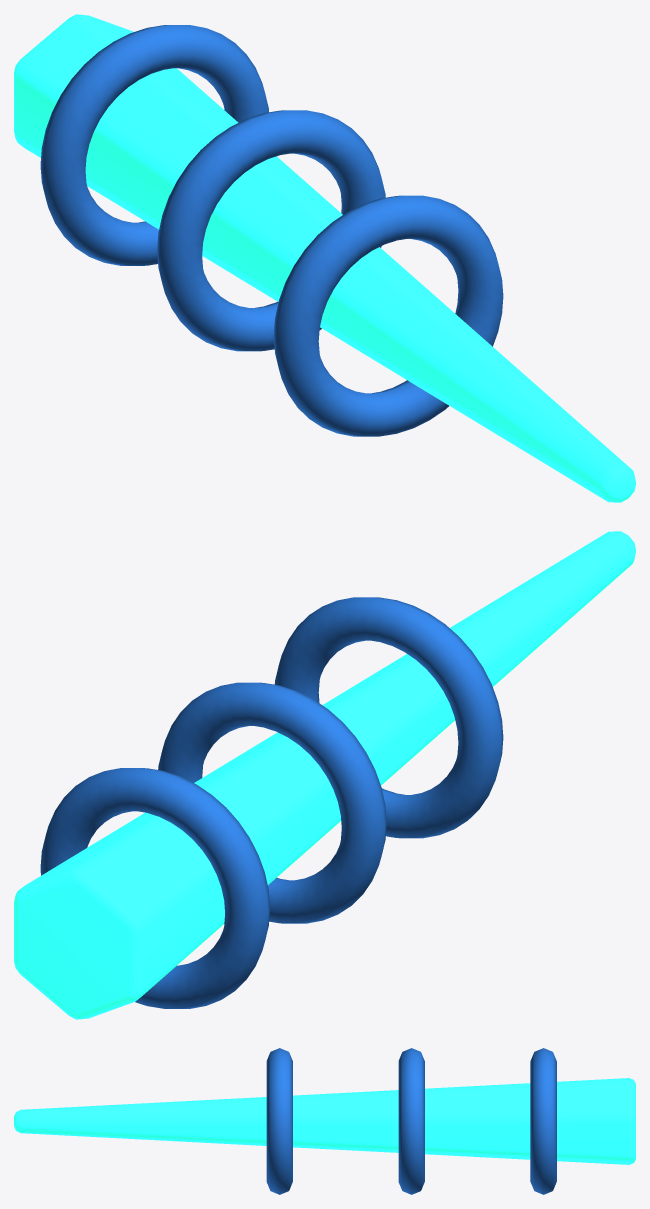
Rendered from Laser_Normal.fbx.
3 renders of one model, top to bottom at view 1: azimuth 30°, elevation 25°; view 2: azimuth 150°, elevation 25°; view 3: azimuth 270°, elevation 25°, orthographic. The views are drawn at different scales.
Visible parts, largest first — view 1: Energy lance, Pulse ring.002, Pulse ring.001, Pulse ring; view 2: Energy lance, Pulse ring.002, Pulse ring.001, Pulse ring; view 3: Energy lance, Pulse ring, Pulse ring.002, Pulse ring.001.
Part boxes in pixels (x1,y1,x2,y2): Energy lance: (14,14,635,502); Pulse ring.002: (273,195,503,436); Pulse ring.001: (157,110,385,351); Pulse ring: (40,25,268,265); Energy lance: (14,531,635,1019); Pulse ring.002: (274,597,503,838); Pulse ring.001: (158,682,386,923); Pulse ring: (40,768,270,1008); Energy lance: (14,1078,635,1164); Pulse ring: (530,1048,556,1194); Pulse ring.002: (266,1048,292,1194); Pulse ring.001: (398,1048,424,1194).
Bounding box in the file's own units: 39 × 39 × 165.
